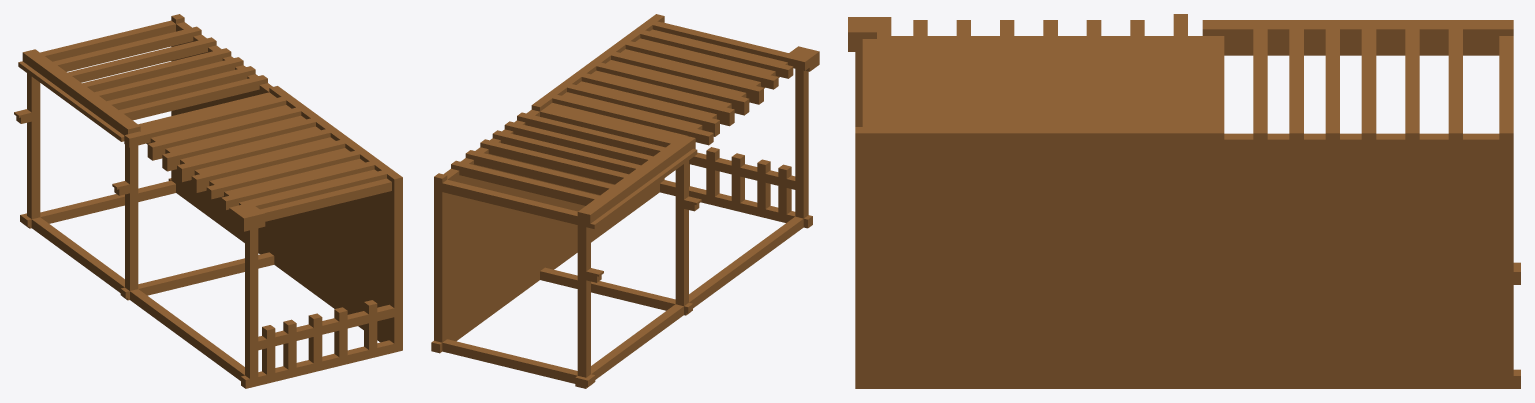
The model's file is grup8-manav-a.fbx.
The picture shows the model from 3 angles, left to right: view 1: azimuth 30°, elevation 25°; view 2: azimuth 150°, elevation 25°; view 3: azimuth 270°, elevation 25°; orthographic projection. The views are drawn at different scales.
Parts seen in each view (by area): view 1: manav_a; view 2: manav_a; view 3: manav_a.
Part boxes in pixels (x1,y1,x2,y2): manav_a: [14, 14, 402, 388]; manav_a: [431, 14, 819, 388]; manav_a: [848, 14, 1520, 388].
Bounding box in the file's own units: 780 × 780 × 1860.
Materials: 1 (1 with a texture image).
